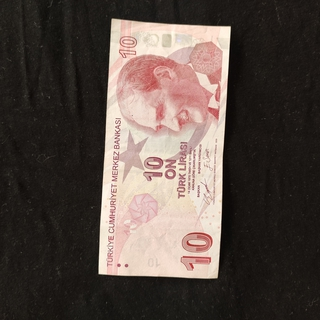10TLFront: (97, 17, 231, 279)
